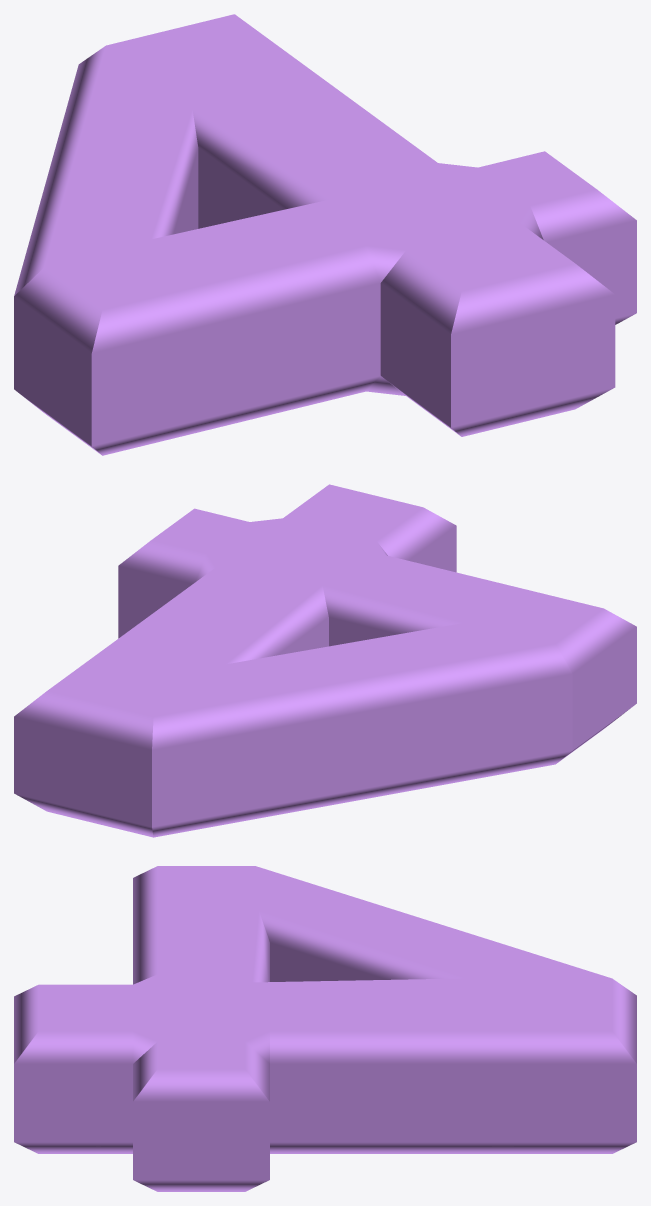
3 renders of one model, top to bottom at view 1: azimuth 30°, elevation 25°; view 2: azimuth 150°, elevation 25°; view 3: azimuth 270°, elevation 25°, orthographic. The views are drawn at different scales.
Visible parts, largest first — view 1: Text; view 2: Text; view 3: Text.
Boxes of the visible parts, x1,y1,x2,y2 form: Text: (14, 14, 636, 455); Text: (14, 484, 636, 837); Text: (14, 866, 636, 1191).
Bounding box in the file's own units: 0.4305 × 0.11 × 0.5061.
